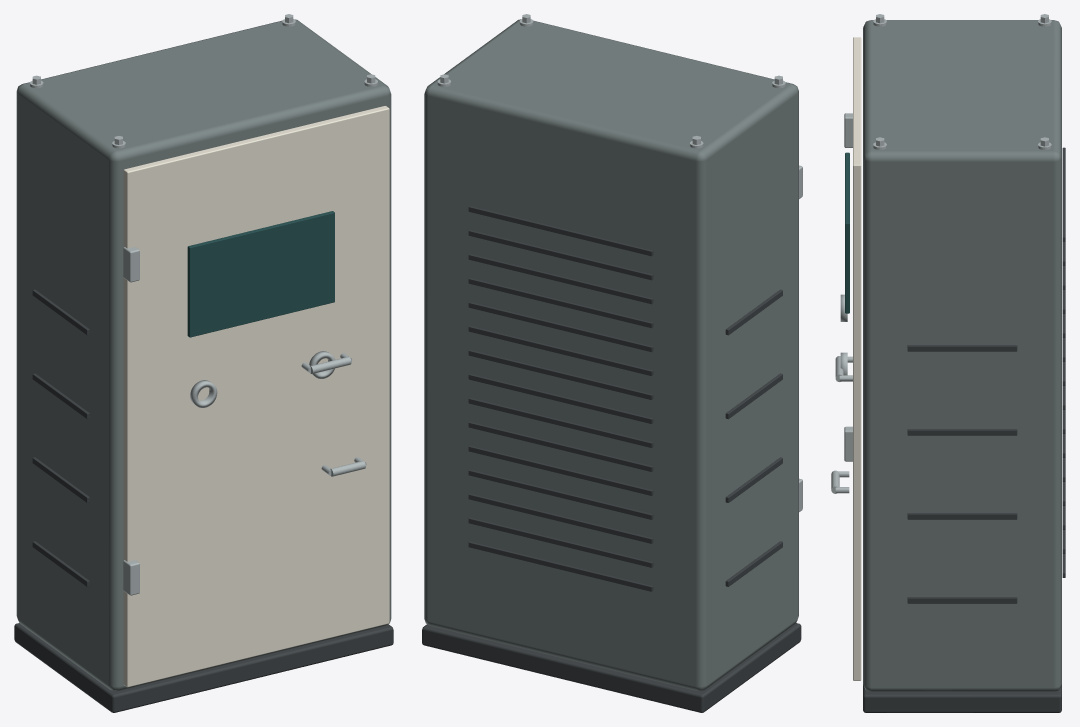
The model's file is pneumatic-tube-mail-exchange-pneumatic-tube-mail-excha-372c86ed__32304.glb.
The picture shows the model from 3 angles, left to right: view 1: azimuth 30°, elevation 25°; view 2: azimuth 150°, elevation 25°; view 3: azimuth 270°, elevation 25°; orthographic projection.
Parts seen in each view (by area): view 1: pneumatic-tube-mail-exchange-system-control-cabinet; view 2: pneumatic-tube-mail-exchange-system-control-cabinet; view 3: pneumatic-tube-mail-exchange-system-control-cabinet.
Boxes of the visible parts, x1,y1,x2,y2 form: pneumatic-tube-mail-exchange-system-control-cabinet: (14, 14, 393, 712); pneumatic-tube-mail-exchange-system-control-cabinet: (422, 14, 802, 712); pneumatic-tube-mail-exchange-system-control-cabinet: (831, 14, 1065, 712).
Size of the model in its own units: 0.972 by 1.83 by 0.6825.
